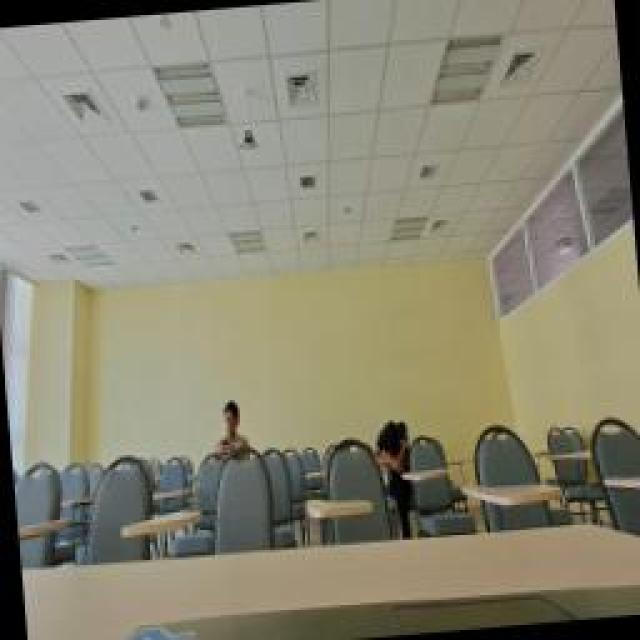phone: (205, 398, 250, 460)
sleep: (370, 418, 412, 468)
